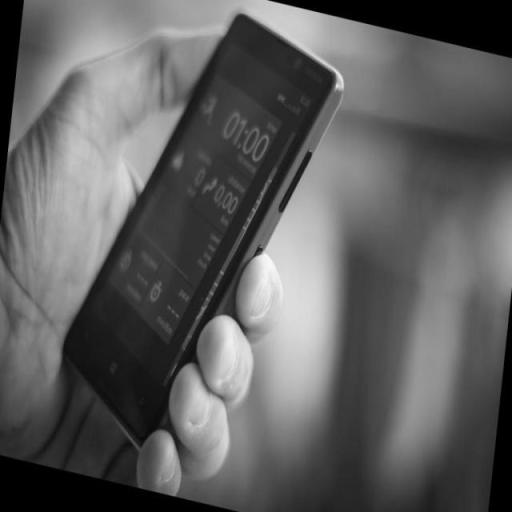phone: (63, 8, 344, 451)
